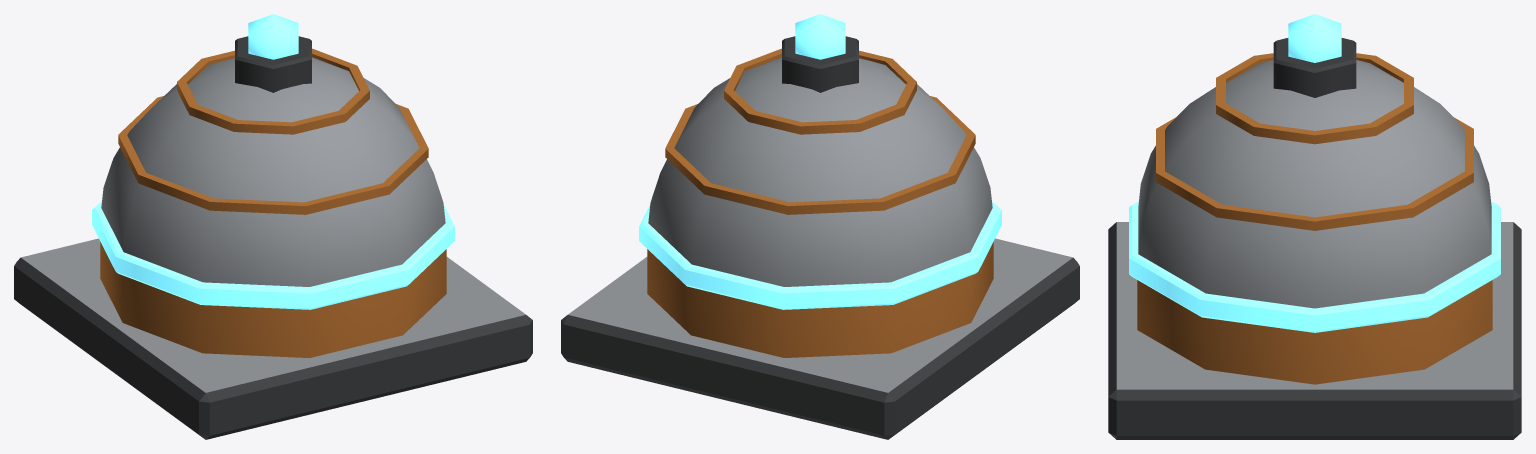
File: R4X_PersonalShield_LOD1.fbx
The picture shows the model from 3 angles, left to right: view 1: azimuth 30°, elevation 25°; view 2: azimuth 150°, elevation 25°; view 3: azimuth 270°, elevation 25°; orthographic projection. The views are drawn at different scales.
Parts seen in each view (by area): view 1: R4X_PersonalShield_LOD1; view 2: R4X_PersonalShield_LOD1; view 3: R4X_PersonalShield_LOD1.
Boxes of the visible parts, x1=… form: R4X_PersonalShield_LOD1: x1=14, y1=14, x2=532, y2=439; R4X_PersonalShield_LOD1: x1=561, y1=14, x2=1079, y2=439; R4X_PersonalShield_LOD1: x1=1108, y1=14, x2=1521, y2=439.
Size of the model in its own units: 0.52 by 0.475 by 0.52.
